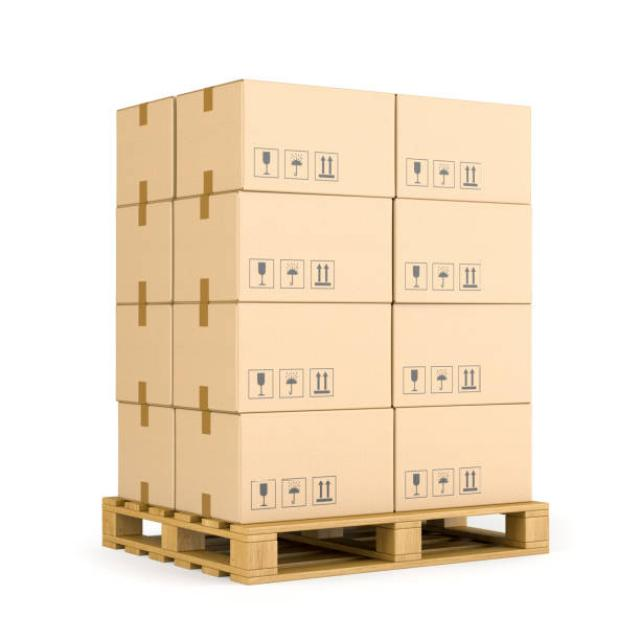Wooden-Pallets: (87, 495, 551, 593)
